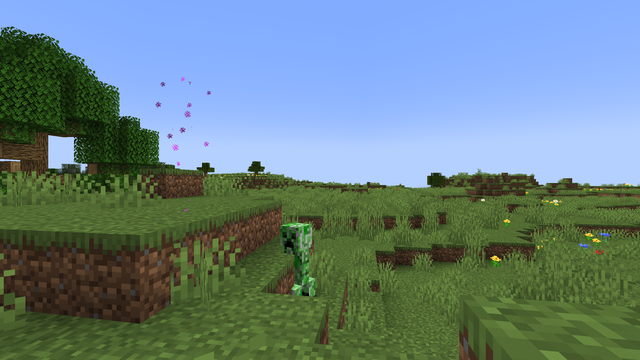creepers: (278, 219, 311, 293)
